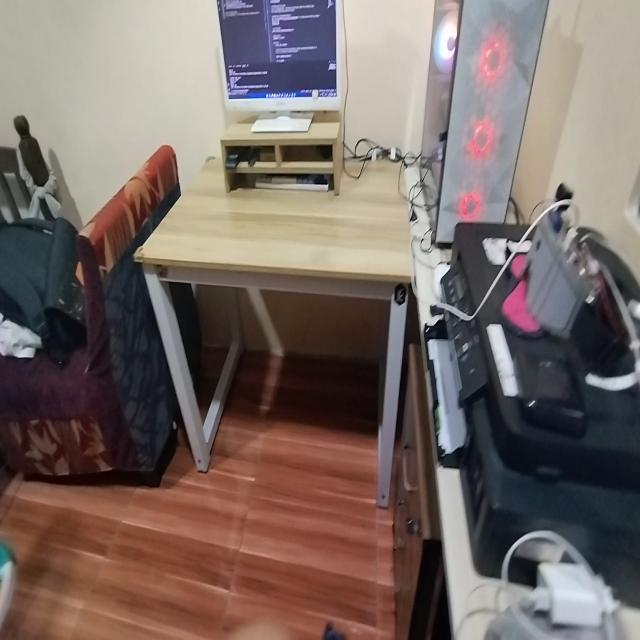table: (162, 134, 417, 506)
